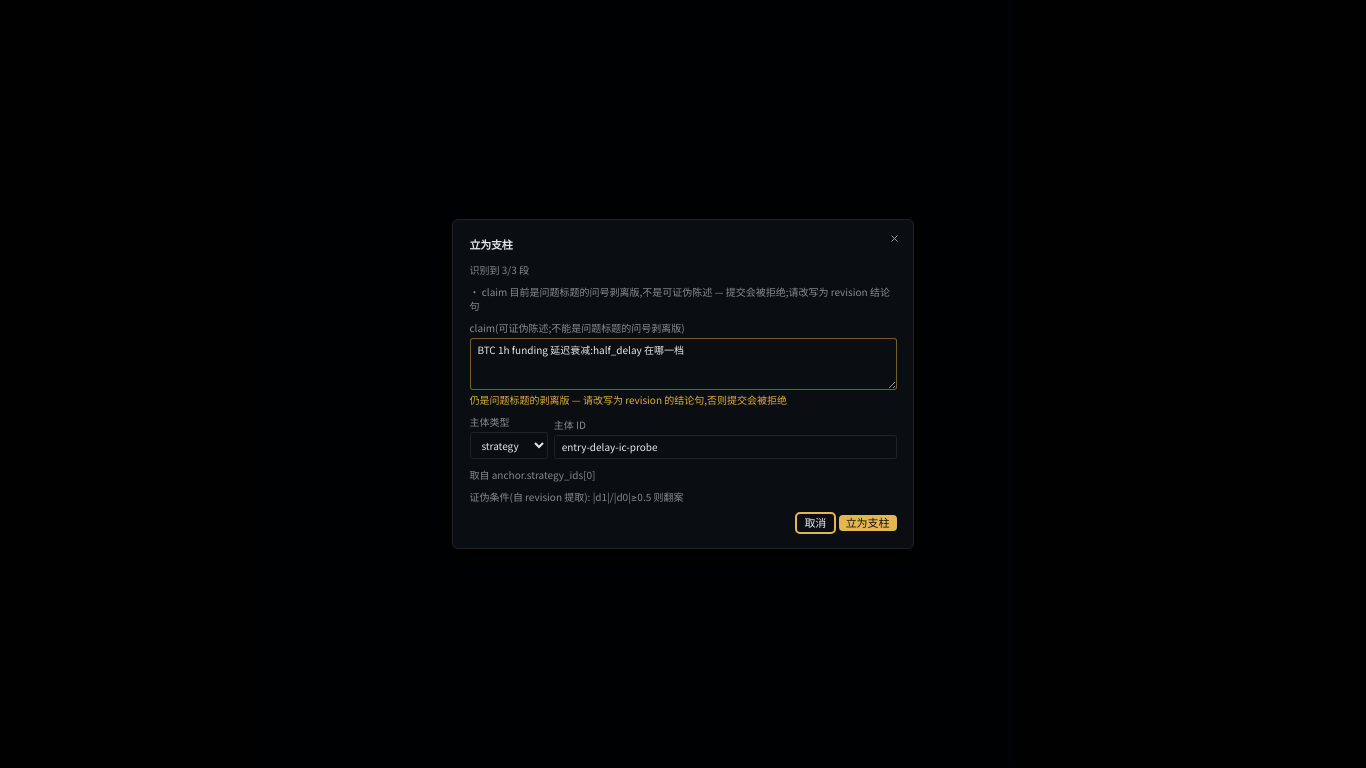
Test: PromoteDialog › claim 改写后标红提示消失
The image size is (1366, 768).
Replace the text in the text box with test id "promote-claim" with "BTC 1h 上 half_delay=1,但仅条件性成立。": (683, 364) [470,338,896,390]
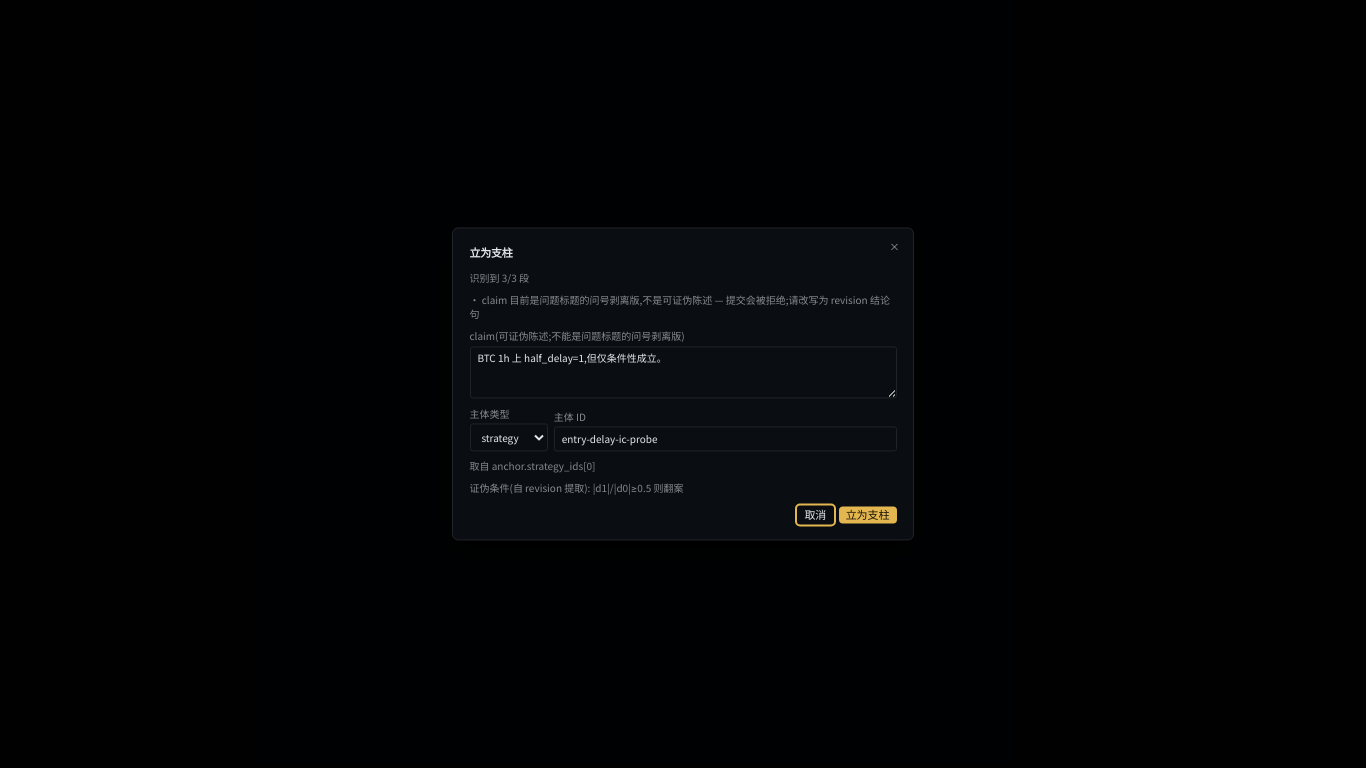
Result: the text with test id "promote-claim-hint" is gone
